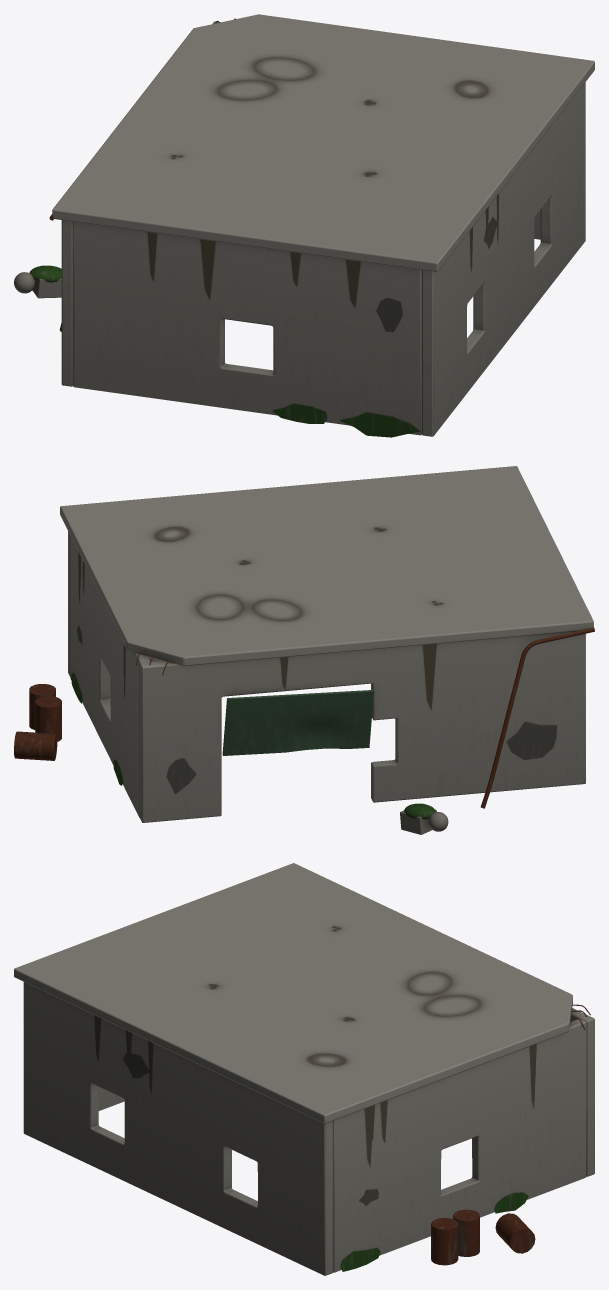
File: oficina.glb
The picture shows the model from 3 angles, top to bottom: view 1: azimuth 30°, elevation 25°; view 2: azimuth 150°, elevation 25°; view 3: azimuth 270°, elevation 25°; orthographic projection. The views are drawn at different scales.
Parts seen in each view (by area): view 1: g_oficina; view 2: g_oficina; view 3: g_oficina.
Boxes of the visible parts, left/top/right/bottom form: g_oficina: left=14, top=14, right=594, bottom=437; g_oficina: left=14, top=466, right=594, bottom=834; g_oficina: left=14, top=863, right=594, bottom=1275.
Size of the model in its own units: 13.23 by 4.18 by 12.82.
Materials: 1 (1 with a texture image).
